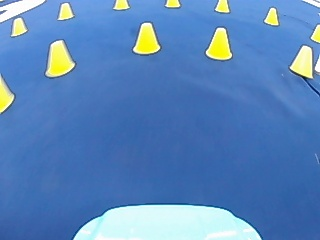cone: (44, 38, 75, 76), (204, 26, 233, 60), (132, 21, 161, 54), (290, 44, 313, 77), (0, 73, 14, 112), (10, 17, 27, 36), (263, 6, 279, 25), (57, 2, 73, 20), (214, 0, 229, 13), (309, 23, 319, 42), (113, 0, 129, 10), (165, 0, 179, 8)
